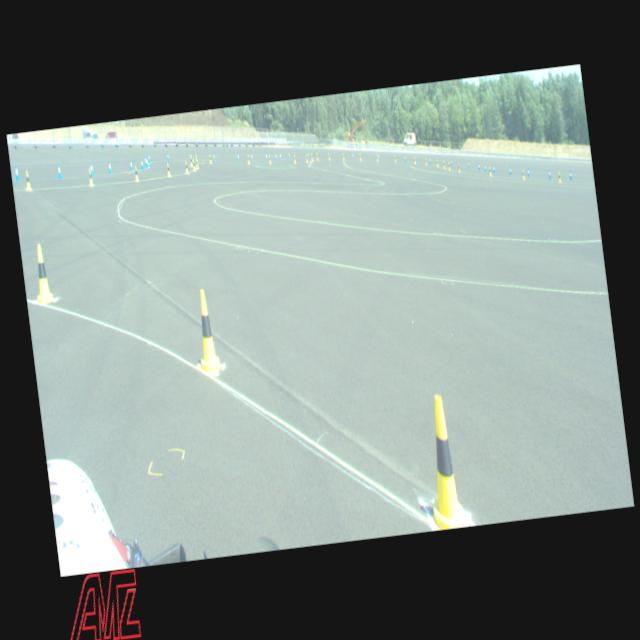blue_cone: (13, 164, 20, 181), (56, 162, 62, 178), (139, 156, 144, 170), (90, 160, 94, 174), (108, 160, 112, 174), (128, 159, 132, 171), (568, 170, 572, 180), (526, 168, 530, 176), (237, 152, 240, 162), (548, 168, 551, 178), (212, 152, 215, 161), (250, 152, 253, 161), (508, 166, 511, 175), (449, 158, 452, 166), (264, 154, 268, 160), (492, 165, 495, 172), (484, 162, 486, 172), (428, 157, 431, 163), (478, 162, 480, 170), (404, 154, 406, 162), (467, 161, 469, 168), (306, 151, 308, 158), (279, 152, 281, 159), (274, 152, 276, 159), (378, 154, 380, 160), (352, 152, 354, 158), (288, 152, 290, 158)
yellow_cone: (416, 393, 466, 528), (190, 287, 222, 378), (30, 242, 54, 304), (24, 170, 32, 190), (87, 167, 93, 185), (133, 165, 139, 181), (184, 160, 189, 173), (191, 158, 196, 171), (166, 162, 170, 176), (208, 152, 212, 163), (194, 158, 198, 168), (558, 172, 562, 182), (520, 168, 524, 178), (488, 166, 492, 175), (412, 156, 416, 164), (247, 154, 250, 164), (268, 154, 271, 163), (447, 161, 450, 169), (457, 164, 460, 172), (424, 158, 427, 165), (293, 154, 295, 162), (305, 154, 307, 162), (316, 152, 318, 160), (328, 152, 330, 160), (394, 154, 396, 162), (442, 160, 444, 168), (310, 153, 312, 160), (376, 154, 378, 161), (436, 159, 438, 166), (342, 153, 344, 159), (359, 154, 361, 160)
